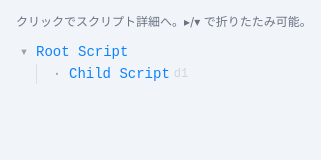
Test: CallChainTree › collapses_children_on_toggle
Expected: the button "Child Script" is shown, [69,64,170,84]
展開ボタンをクリックして折りたたむ
Click the button "▾" at (24,52), box [16,44,32,60]
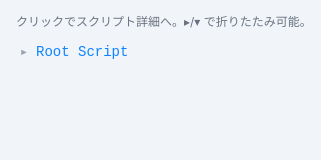
Result: the button "Child Script" is gone
